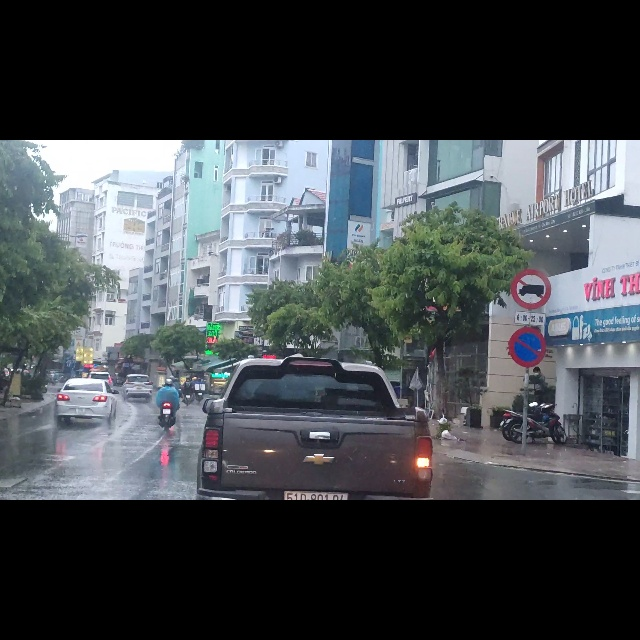bien_cam: (512, 229, 552, 303), (508, 331, 546, 404)
